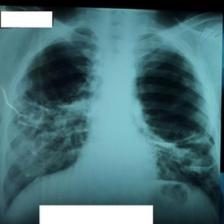tuberculosis: (1, 27, 224, 203)
